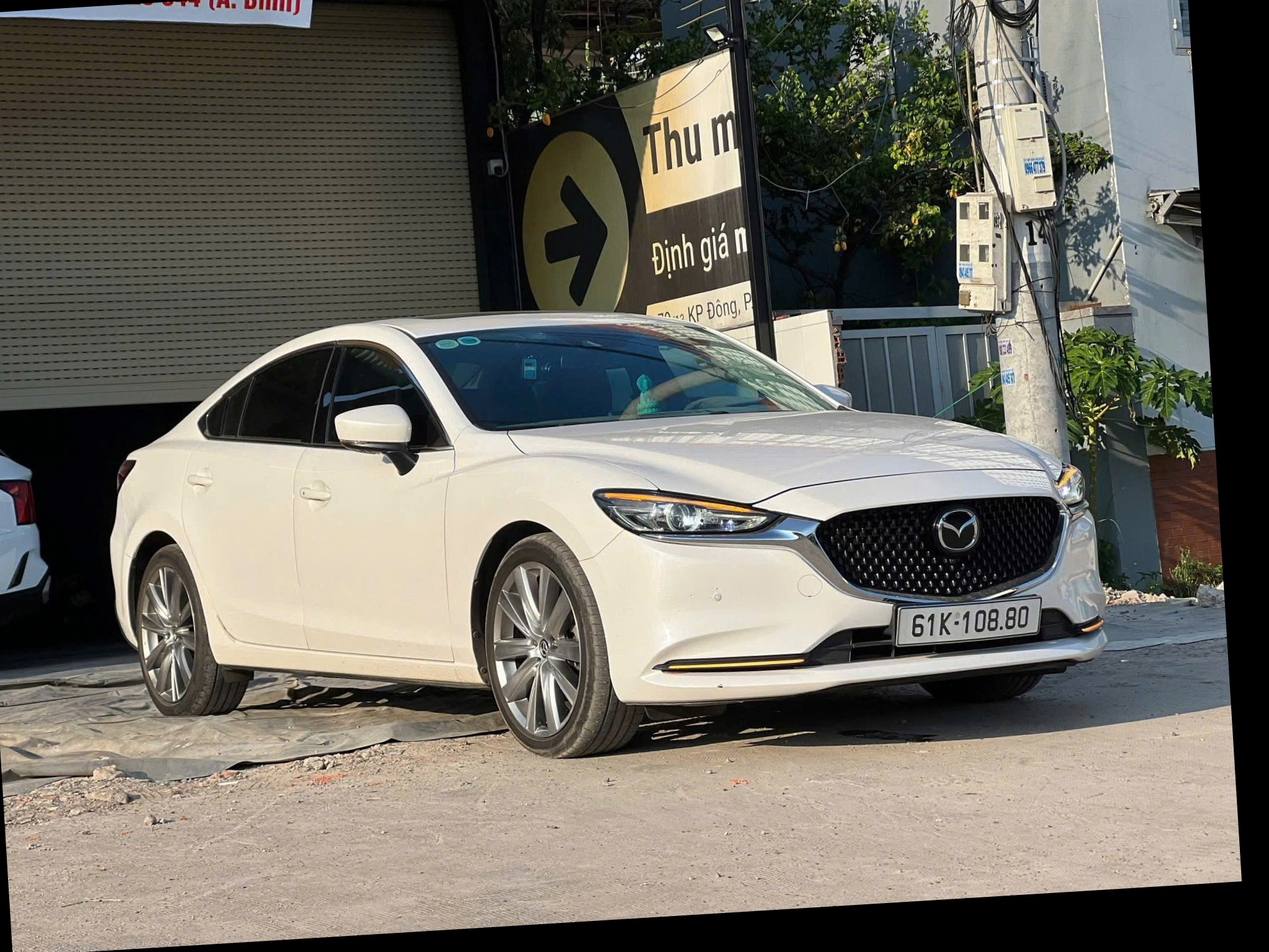Bien-so: (935, 654, 1093, 700)
